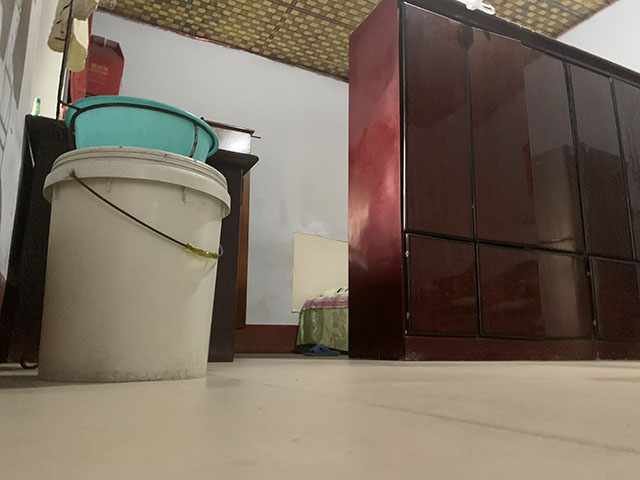cabinet: (347, 1, 640, 359)
slippers: (303, 344, 341, 357)
